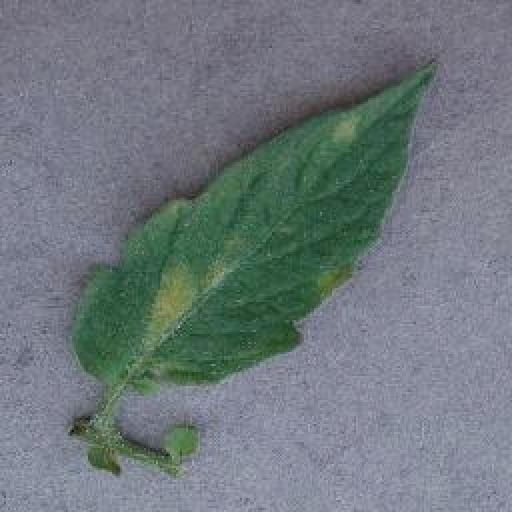disease_tomato: (67, 56, 432, 398)
